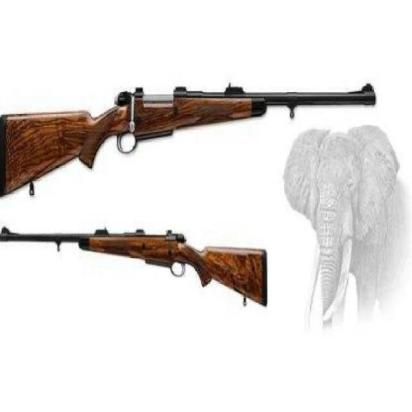Gun: (0, 80, 377, 201)
